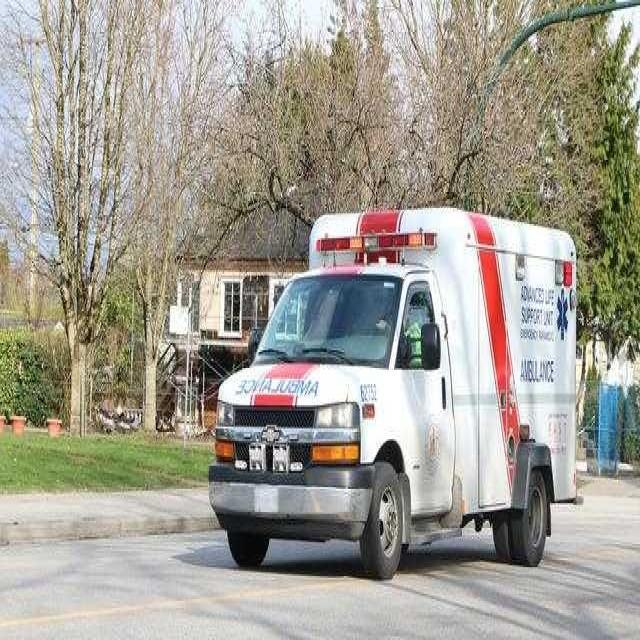emergency-vehicle: (207, 202, 584, 580)
